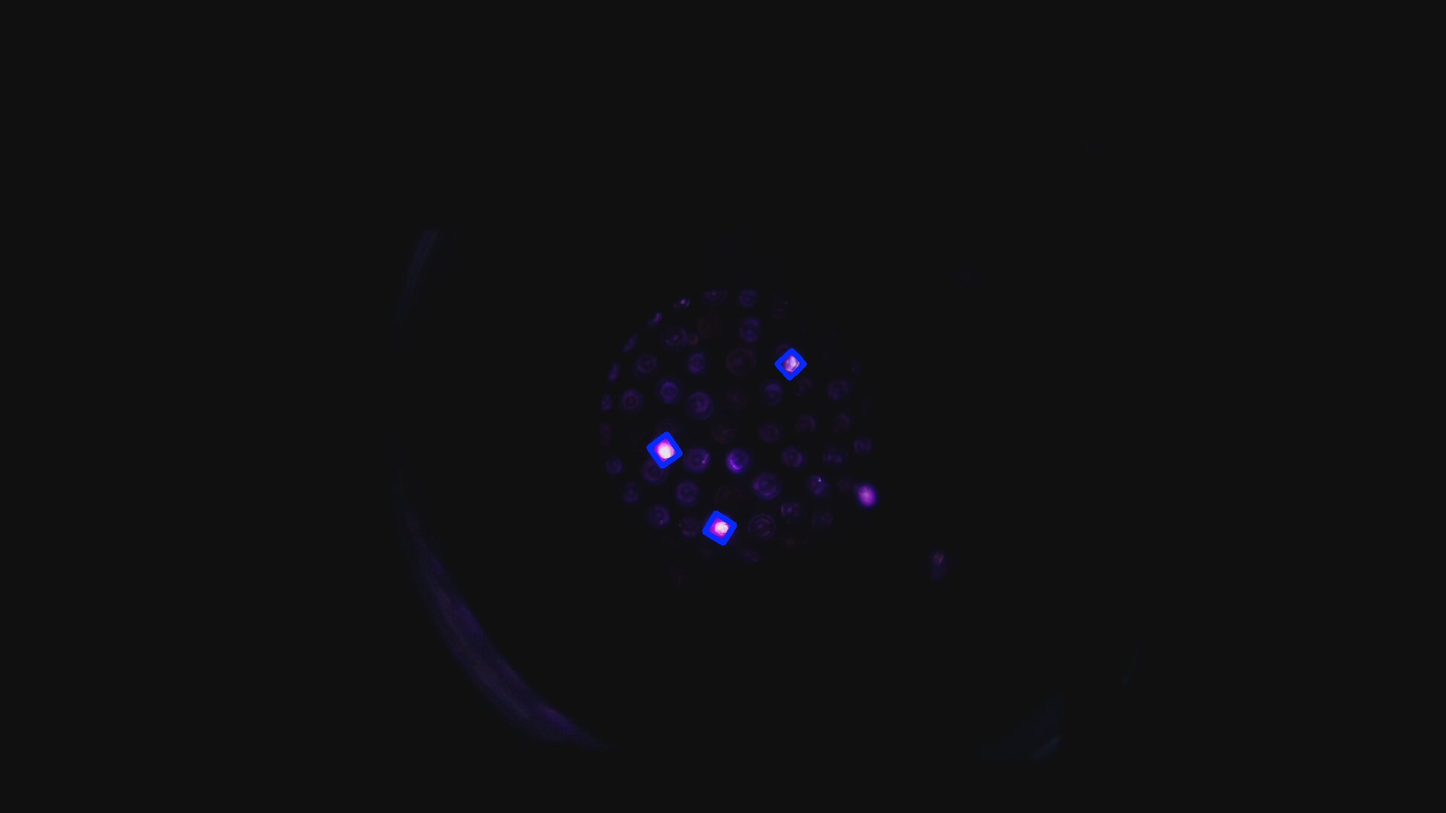plastic: (642, 428, 687, 473), (699, 508, 740, 549), (771, 344, 811, 384)
